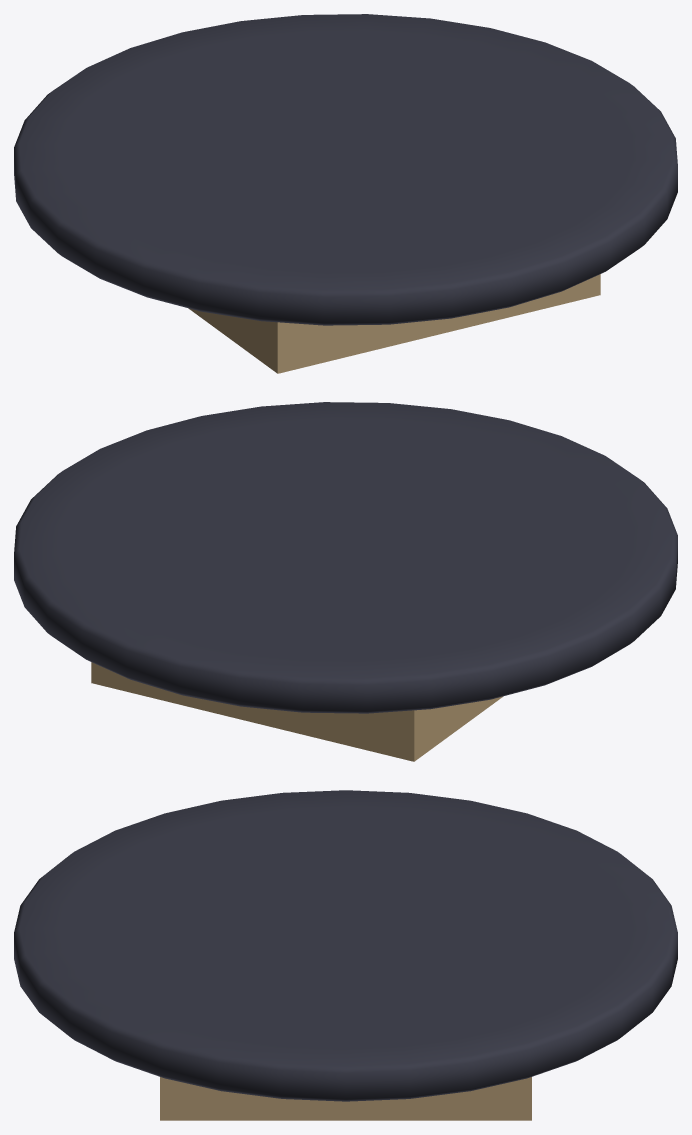
File: LazySusan.glb
3 views of the same model, one above another, from view 1: azimuth 30°, elevation 25°; view 2: azimuth 150°, elevation 25°; view 3: azimuth 270°, elevation 25° (orthographic).
Parts seen in each view (by area): view 1: lazysusan_top, lazysusan_base; view 2: lazysusan_top, lazysusan_base; view 3: lazysusan_top, lazysusan_base.
Part boxes in pixels (x1=…): lazysusan_top: x1=14, y1=14, x2=677, y2=325; lazysusan_base: x1=188, y1=274, x2=600, y2=373; lazysusan_top: x1=14, y1=402, x2=677, y2=713; lazysusan_base: x1=91, y1=662, x2=503, y2=761; lazysusan_top: x1=14, y1=790, x2=677, y2=1101; lazysusan_base: x1=160, y1=1077, x2=531, y2=1120.
Bounding box in the file's own units: 5 × 0.9474 × 5.
